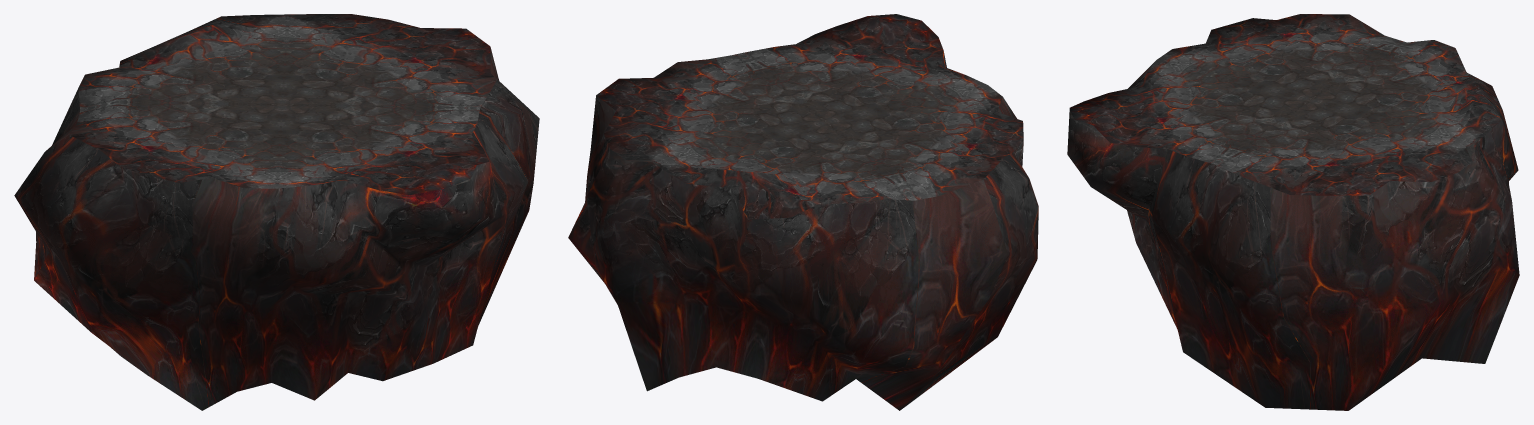
The model's file is 10504_LavaStone01.FBX.
3 views of the same model, side by side, from view 1: azimuth 30°, elevation 25°; view 2: azimuth 150°, elevation 25°; view 3: azimuth 270°, elevation 25° (orthographic). The views are drawn at different scales.
Visible parts, largest first — view 1: Object15643; view 2: Object15643; view 3: Object15643.
Part boxes in pixels (x1,y1,x2,y2): Object15643: (14,14,539,410); Object15643: (568,14,1038,410); Object15643: (1067,14,1519,410).
Bounding box in the file's own units: 2727 × 1564 × 2514.
